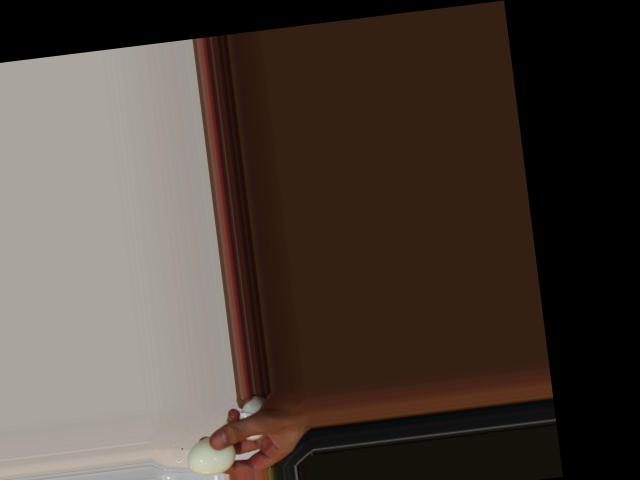egg: (185, 433, 237, 478)
